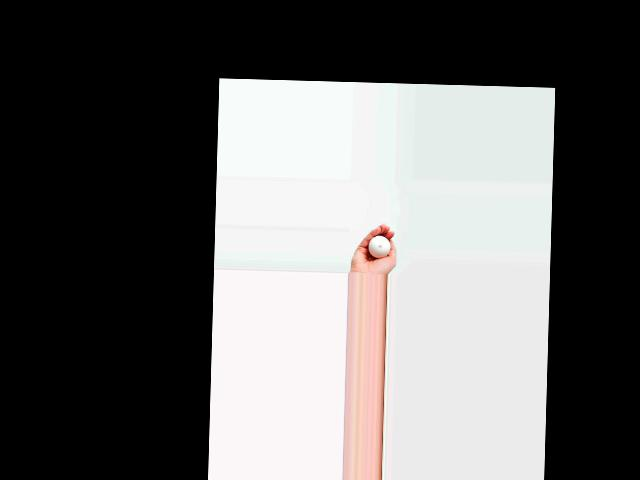egg: (368, 235, 390, 257)
